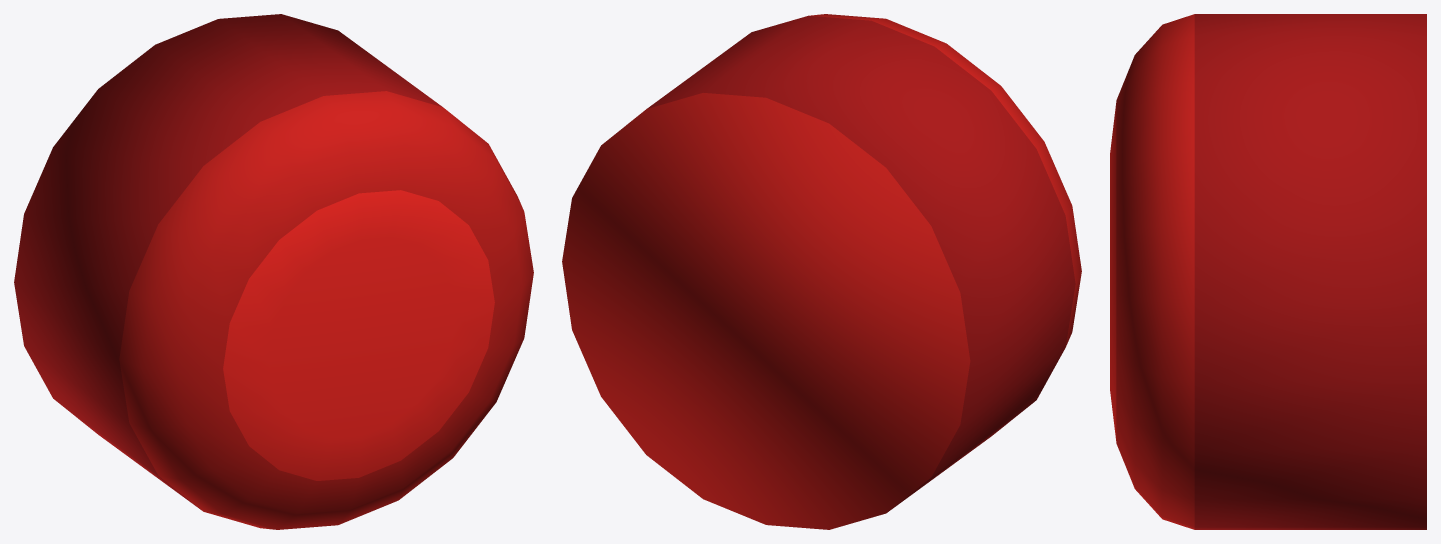
Rendered from indicator.fbx.
3 views of the same model, side by side, from view 1: azimuth 30°, elevation 25°; view 2: azimuth 150°, elevation 25°; view 3: azimuth 270°, elevation 25° (orthographic). The views are drawn at different scales.
Parts seen in each view (by area): view 1: Cylinder.001; view 2: Cylinder.001; view 3: Cylinder.001.
Part boxes in pixels (x1,y1,x2,y2): Cylinder.001: (14, 14, 533, 529); Cylinder.001: (562, 14, 1081, 529); Cylinder.001: (1110, 14, 1426, 529).
Bounding box in the file's own units: 86.03 × 86.03 × 52.44.
Materials: 1 (1 with a texture image).
